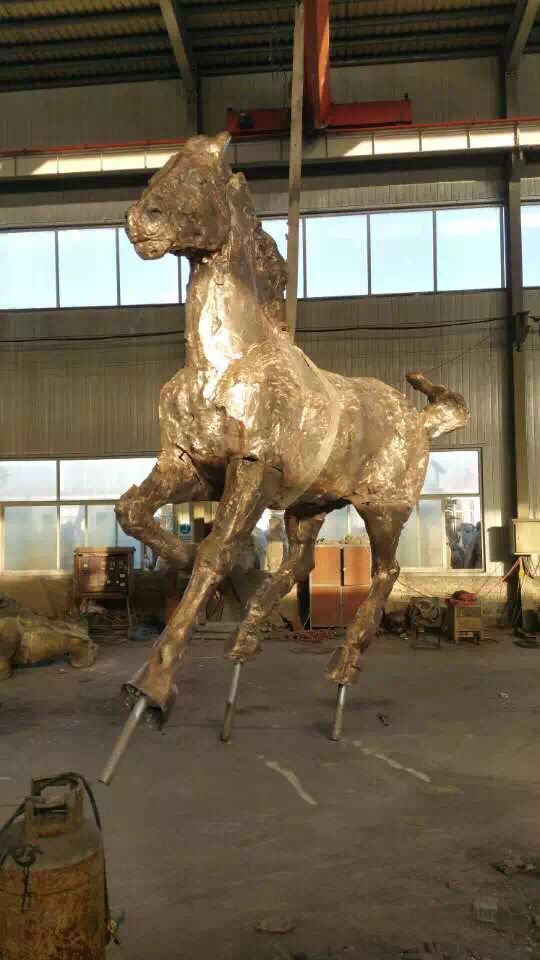background: (117, 127, 470, 719)
